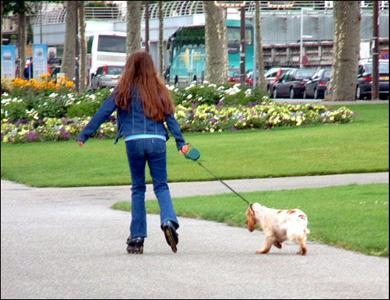person: (77, 51, 192, 254)
